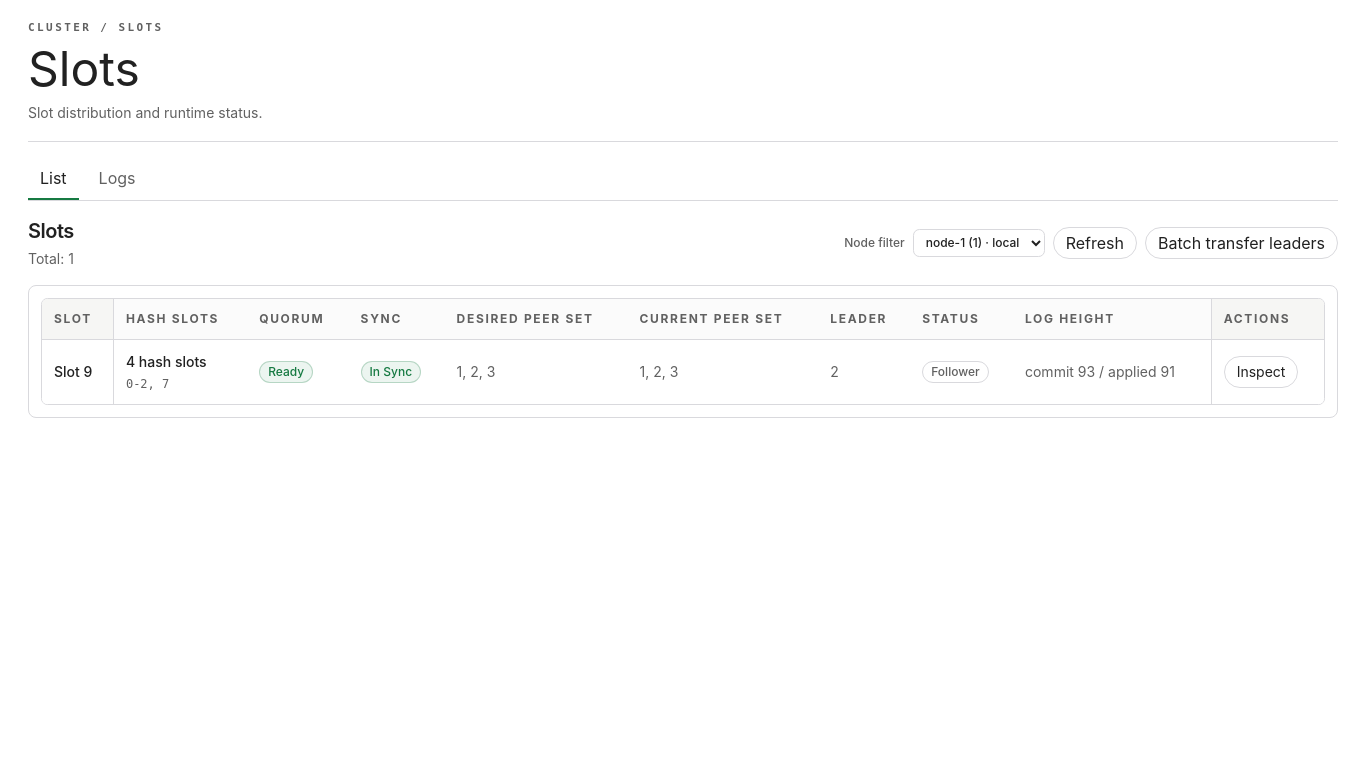
Test: opens slot detail from the current list response without the retired detail endpoint
Expected: the text "Slot 9" is shown, [42,339,113,404]
Click the button with aria-label "Inspect slot 9": coordinates (1261, 372) [1224,356,1298,388]
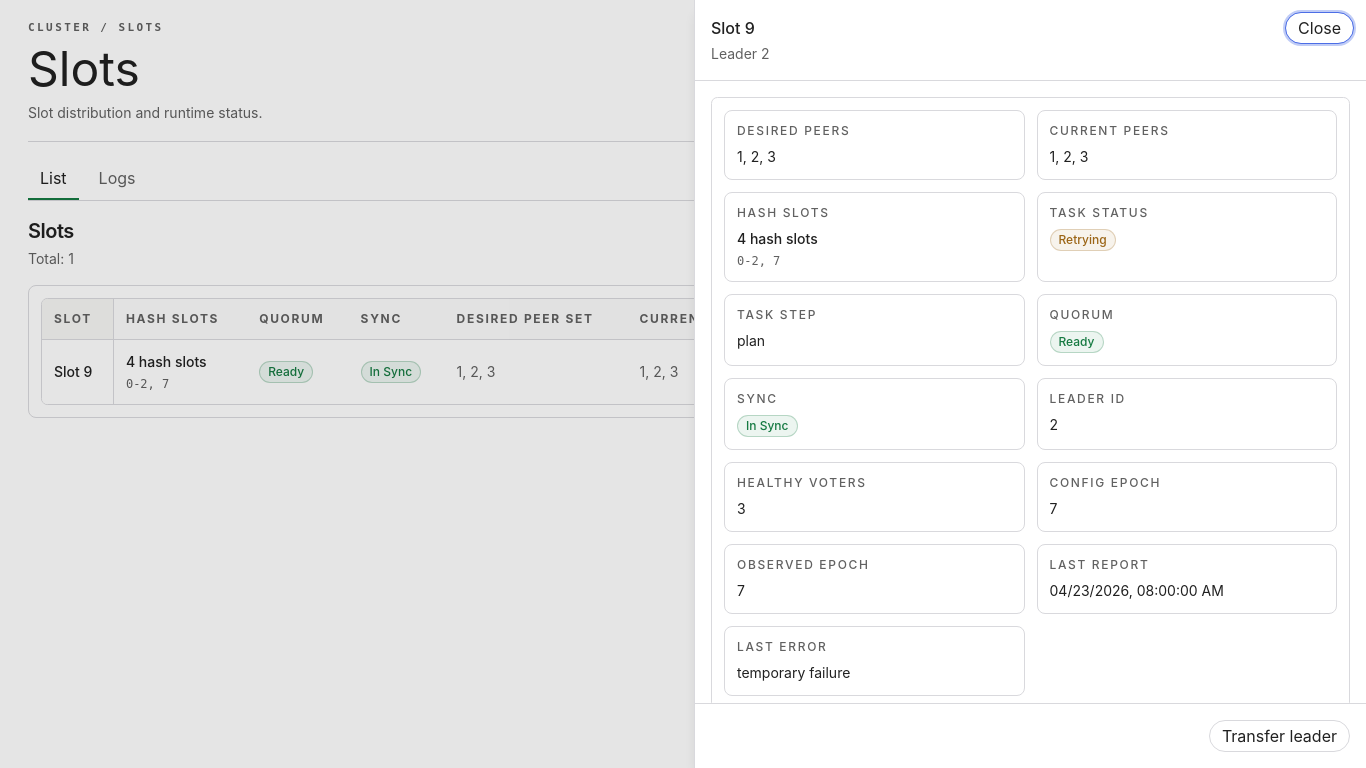
Result: the text "Desired peers" is shown at [737,123,850,138]
Result: the text "temporary failure" is shown at [737,664,850,681]
